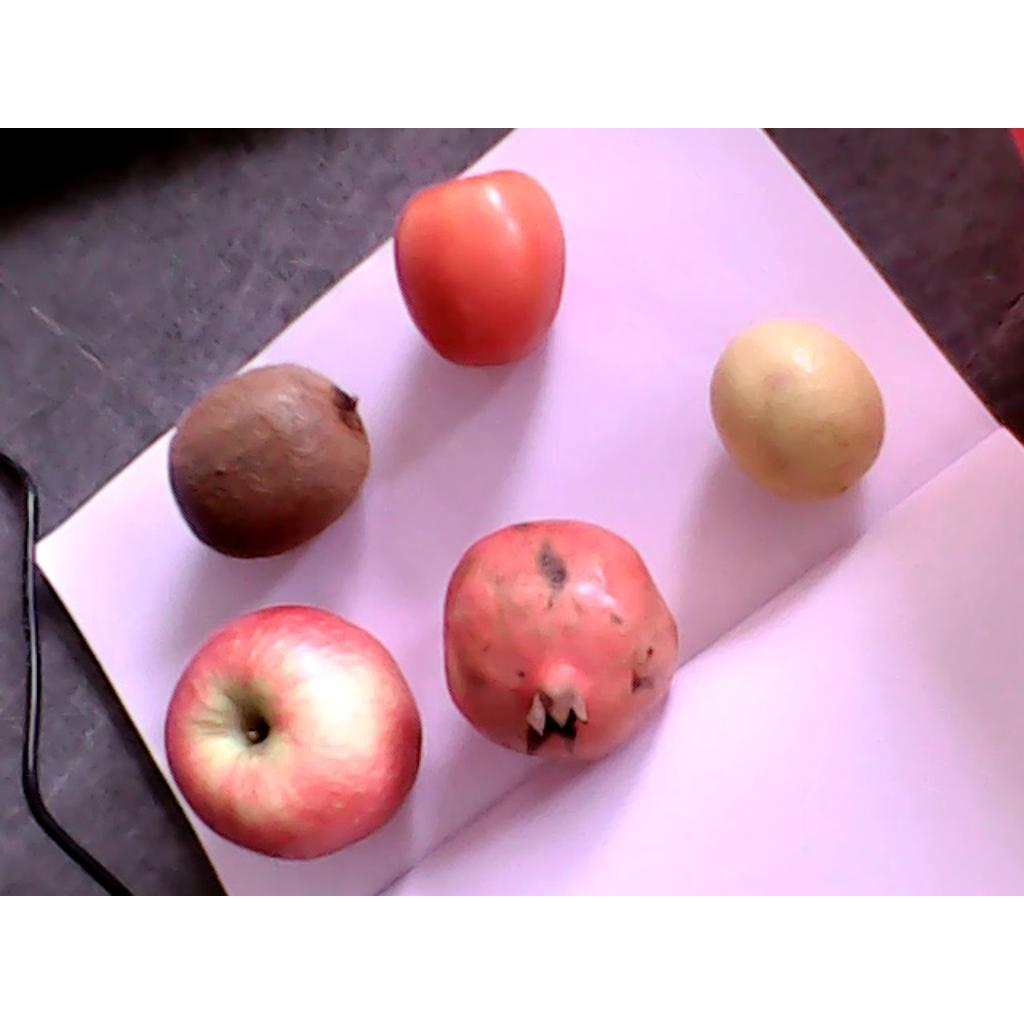apple: (163, 604, 423, 862)
kiwi: (169, 363, 370, 560)
lemon: (709, 319, 884, 501)
pomegranate: (440, 519, 682, 764)
tomato: (395, 169, 567, 369)
